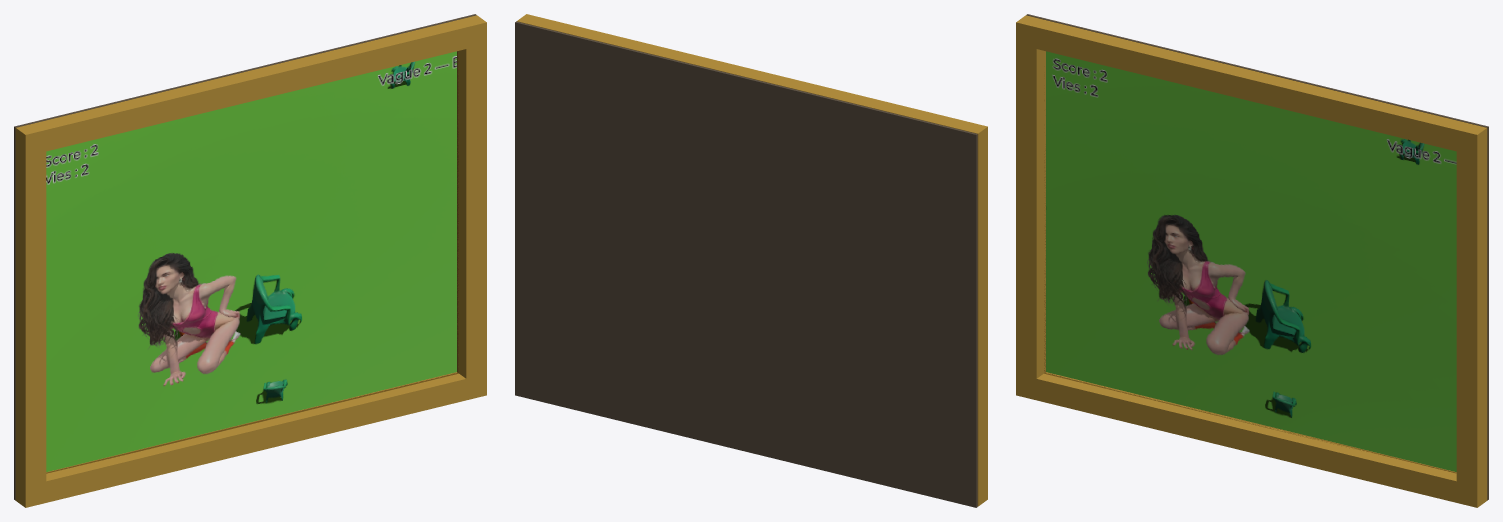
The model's file is tableau_royesque_framed.glb.
The picture shows the model from 3 angles, left to right: view 1: azimuth 30°, elevation 25°; view 2: azimuth 150°, elevation 25°; view 3: azimuth 330°, elevation 25°; orthographic projection.
Parts seen in each view (by area): view 1: Toile, Cadre_Haut, Cadre_Bas, Cadre_Gauche, Cadre_Droit, Dos, Liseret_Bas; view 2: Dos, Cadre_Haut, Cadre_Gauche; view 3: Toile, Cadre_Haut, Cadre_Bas, Cadre_Droit, Cadre_Gauche, Dos, Liseret_Bas.
Part boxes in pixels (x1,y1,x2,y2): Toile: (46,51,456,471); Cadre_Haut: (15,15,486,156); Cadre_Bas: (15,372,486,507); Cadre_Gauche: (15,149,46,486); Cadre_Droit: (457,44,486,378); Dos: (14,14,476,500); Liseret_Bas: (46,372,458,473); Dos: (515,21,977,507); Cadre_Haut: (516,14,987,154); Cadre_Gauche: (977,148,987,484); Toile: (1046,51,1456,471); Cadre_Haut: (1016,15,1487,156); Cadre_Bas: (1016,372,1487,507); Cadre_Droit: (1456,149,1487,486); Cadre_Gauche: (1016,44,1045,378); Dos: (1026,14,1488,500); Liseret_Bas: (1044,372,1456,473).
Bounding box in the file's own units: 1.23 × 0.95 × 0.053.
4 materials, 1 textured.
